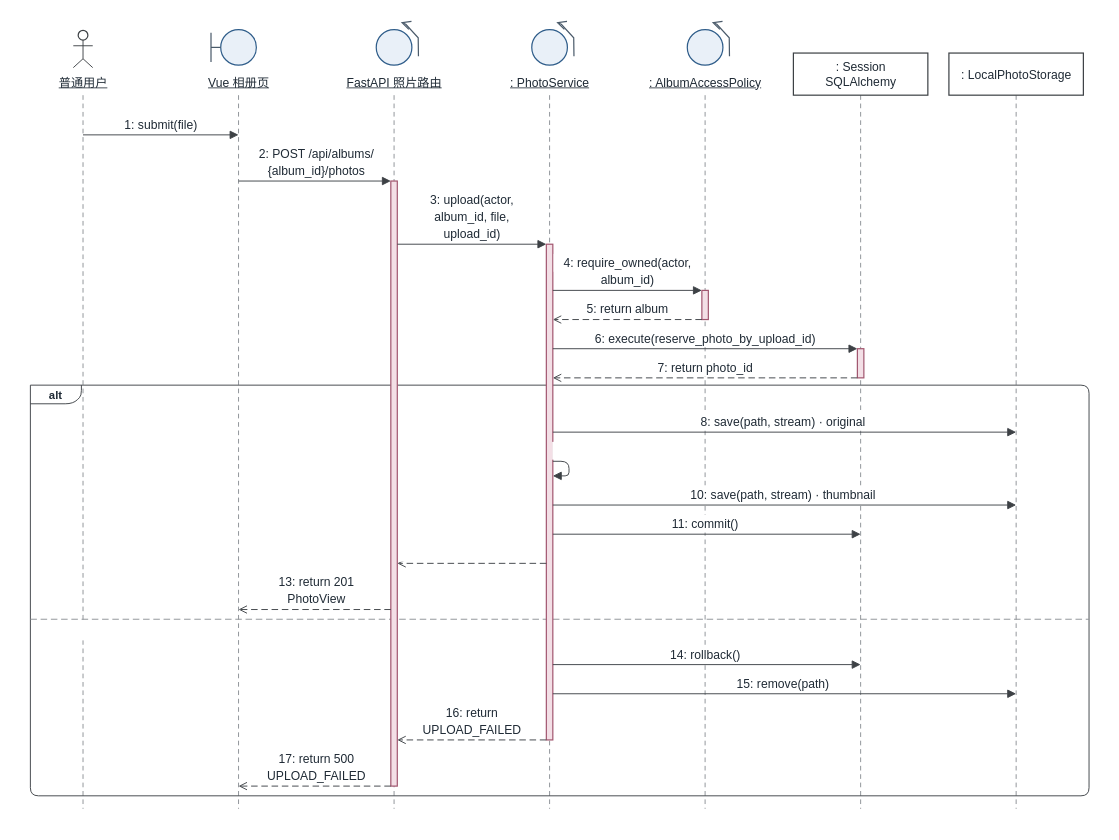
The diagram is 1119 pixels wide and 840 high, and some of its shapes have lost their labels. Here are the shapes that lost their labels. From the top down, the box of each, then its label:
(87, 388, 227, 406): [原图和缩略图写入成功]
(552, 441, 698, 459): 9: make_thumbnail(file)
(399, 544, 544, 561): 12: return (photo, True)
(37, 622, 128, 640): [文件处理失败]
